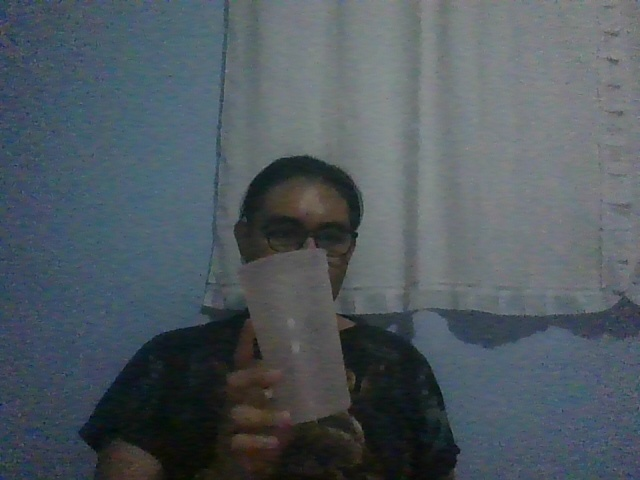vaso: (233, 247, 352, 427)
